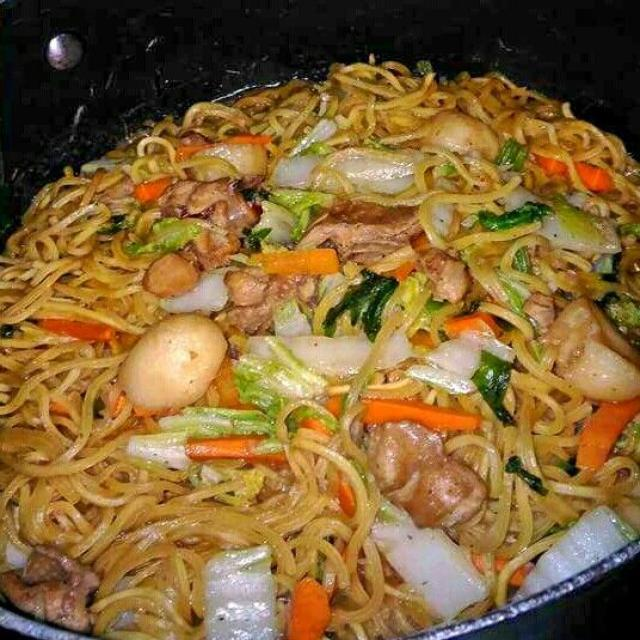pancit bihon: (3, 19, 640, 637)
